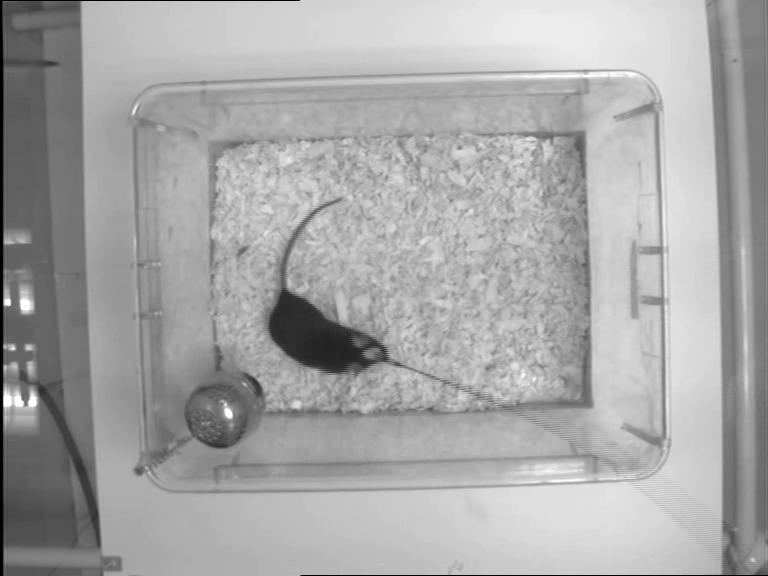mice: (269, 196, 387, 382)
